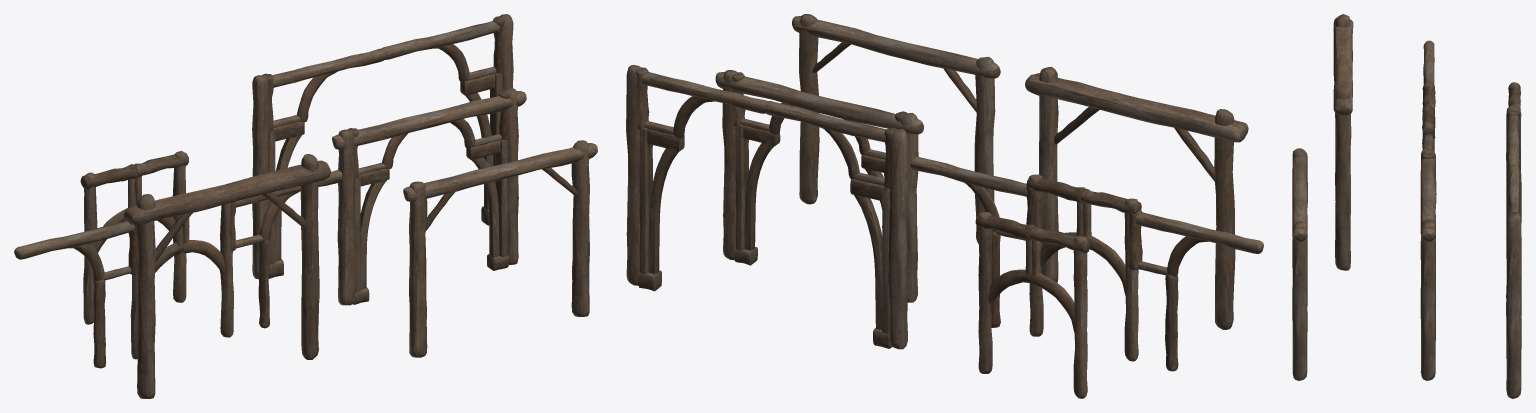
Rendered from Mining_Supports_A1.fbx.
The picture shows the model from 3 angles, left to right: view 1: azimuth 30°, elevation 25°; view 2: azimuth 150°, elevation 25°; view 3: azimuth 270°, elevation 25°; orthographic projection. The views are drawn at different scales.
Visible parts, largest first — view 1: Mining_Supports_A2, Mining_Supports_A1, Mining_Supports_A3, Misc_Doorway_Wall_A1, Mining_Supports_A4, Mining_Supports_A2.001, Mining_Supports_A3.001, Mining_Supports_A1.001, Misc_Doorway_Wall_A1.001, Mining_Supports_A4.001, Misc_Doorway_Wall_A2, Misc_Doorway_Wall_A2.001; view 2: Mining_Supports_A1, Misc_Doorway_Wall_A1, Mining_Supports_A2, Mining_Supports_A1.001, Mining_Supports_A3, Mining_Supports_A4, Misc_Doorway_Wall_A1.001, Misc_Doorway_Wall_A2, Mining_Supports_A3.001, Mining_Supports_A2.001, Mining_Supports_A4.001, Misc_Doorway_Wall_A2.001; view 3: Mining_Supports_A1, Mining_Supports_A3, Mining_Supports_A4, Mining_Supports_A2, Mining_Supports_A1.001, Mining_Supports_A3.001, Mining_Supports_A2.001, Mining_Supports_A4.001, Misc_Doorway_Wall_A1, Misc_Doorway_Wall_A1.001, Misc_Doorway_Wall_A2.
Part boxes in pixels (box(x1,y1,x2,y2)): Mining_Supports_A2: box(332, 88, 526, 305); Mining_Supports_A1: box(252, 14, 513, 279); Mining_Supports_A3: box(123, 154, 330, 398); Misc_Doorway_Wall_A1: box(14, 171, 342, 368); Mining_Supports_A4: box(403, 141, 597, 357); Mining_Supports_A2.001: box(333, 89, 526, 305); Mining_Supports_A3.001: box(123, 154, 330, 398); Mining_Supports_A1.001: box(252, 14, 513, 279); Misc_Doorway_Wall_A1.001: box(14, 170, 339, 368); Mining_Supports_A4.001: box(403, 140, 597, 357); Misc_Doorway_Wall_A2: box(80, 151, 188, 324); Misc_Doorway_Wall_A2.001: box(81, 151, 188, 324); Mining_Supports_A1: box(626, 65, 908, 349); Misc_Doorway_Wall_A1: box(910, 156, 1263, 371); Mining_Supports_A2: box(715, 70, 923, 302); Mining_Supports_A1.001: box(626, 67, 908, 347); Mining_Supports_A3: box(1025, 67, 1248, 329); Mining_Supports_A4: box(792, 14, 1000, 242); Misc_Doorway_Wall_A1.001: box(910, 157, 1263, 371); Misc_Doorway_Wall_A2: box(975, 212, 1090, 398); Mining_Supports_A3.001: box(1025, 66, 1247, 329); Mining_Supports_A2.001: box(716, 72, 923, 300); Mining_Supports_A4.001: box(792, 14, 1000, 244); Misc_Doorway_Wall_A2.001: box(975, 212, 1089, 398); Mining_Supports_A1: box(1506, 105, 1521, 398); Mining_Supports_A3: box(1333, 14, 1353, 270); Mining_Supports_A4: box(1292, 148, 1307, 380); Mining_Supports_A2: box(1420, 148, 1436, 380); Mining_Supports_A1.001: box(1506, 106, 1521, 397); Mining_Supports_A3.001: box(1333, 14, 1353, 270); Mining_Supports_A2.001: box(1420, 150, 1436, 379); Mining_Supports_A4.001: box(1292, 148, 1307, 379); Misc_Doorway_Wall_A1: box(1422, 40, 1435, 151); Misc_Doorway_Wall_A1.001: box(1422, 41, 1435, 149); Misc_Doorway_Wall_A2: box(1508, 82, 1520, 109).
Bounding box in the file's own units: 1323 × 482 × 536.
